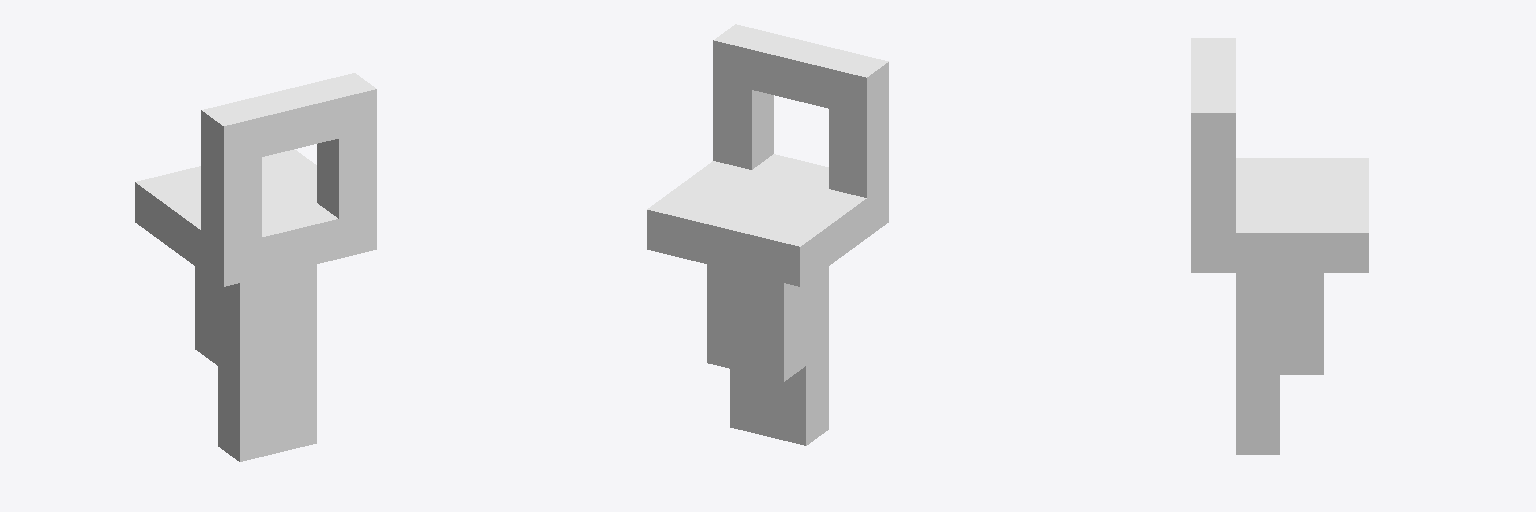
File: Leg-48.obj
The picture shows the model from 3 angles: view 1: azimuth 30°, elevation 25°; view 2: azimuth 150°, elevation 25°; view 3: azimuth 270°, elevation 25°; orthographic projection.
Visible parts, largest first — view 1: object 1; view 2: object 1; view 3: object 1.
Boxes of the visible parts, <box> form: object 1: <box>135,73,376,461</box>; object 1: <box>647,24,888,445</box>; object 1: <box>1191,38,1368,454</box>.
Size of the model in its own units: 0.4 by 0.9 by 0.4.